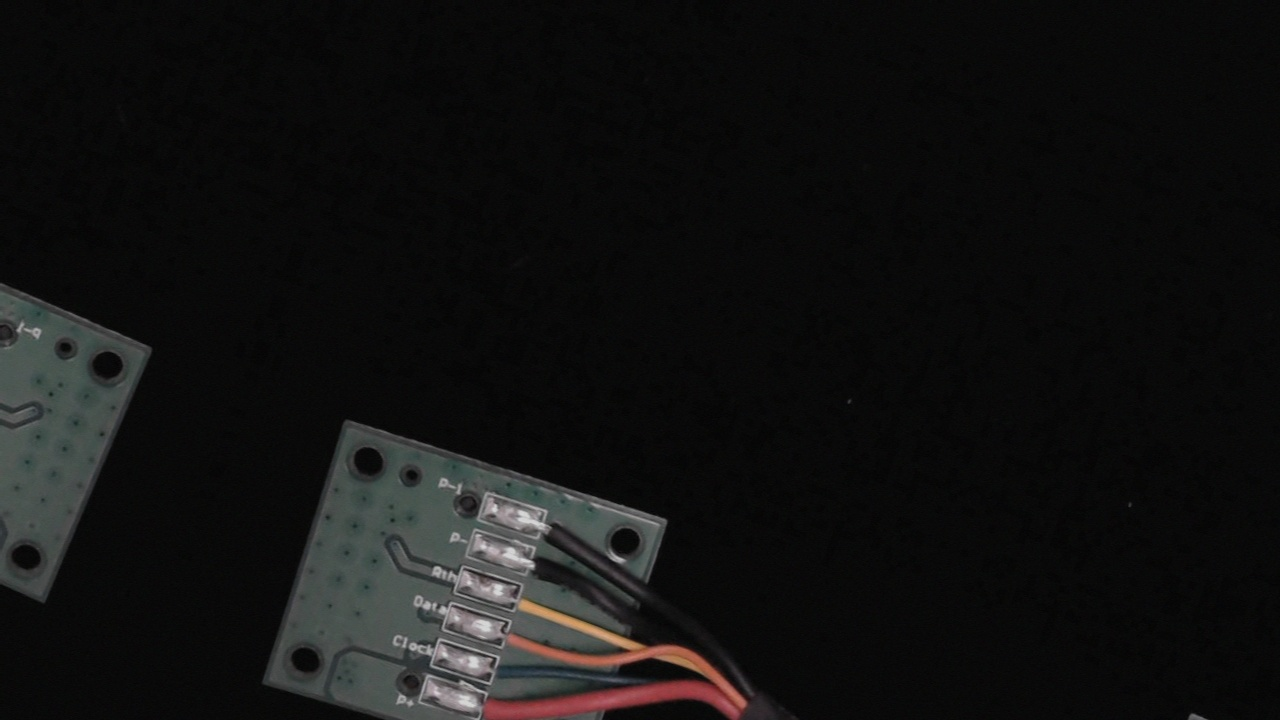Black: (501, 537, 581, 594)
Black1: (516, 502, 590, 556)
Green: (468, 647, 545, 703)
Orange: (478, 611, 556, 666)
Red: (457, 684, 534, 720)
Yellow: (489, 577, 571, 635)
